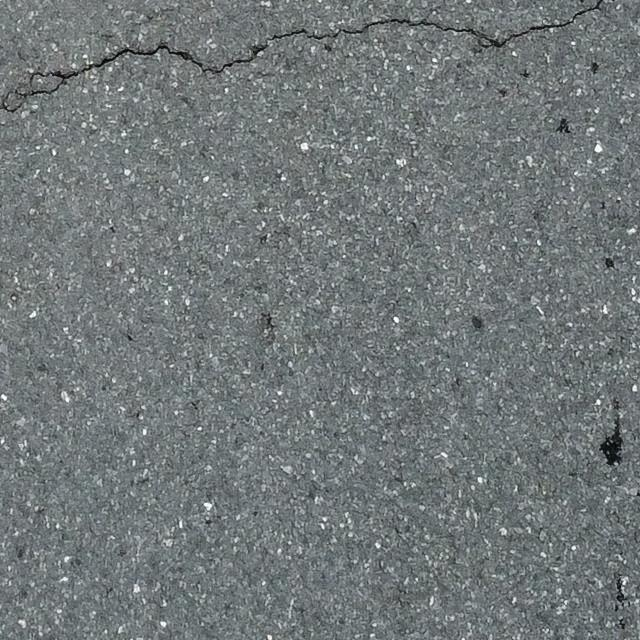TransverseCrack: (1, 1, 601, 113)
